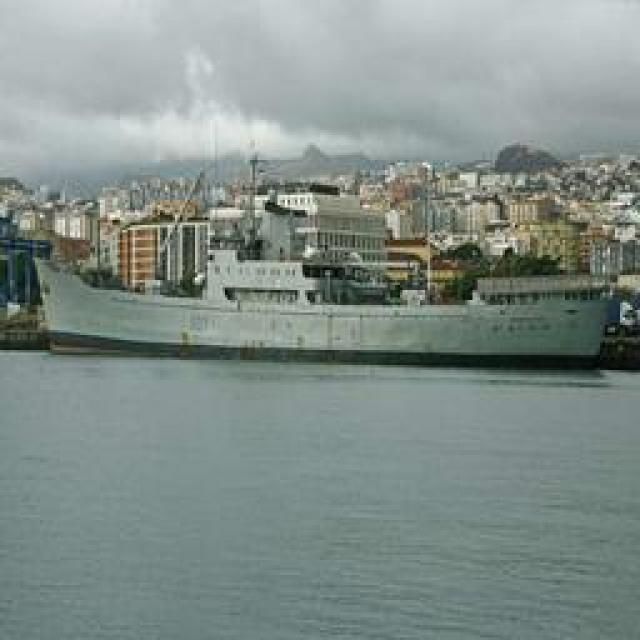Ship: (31, 197, 640, 370)
